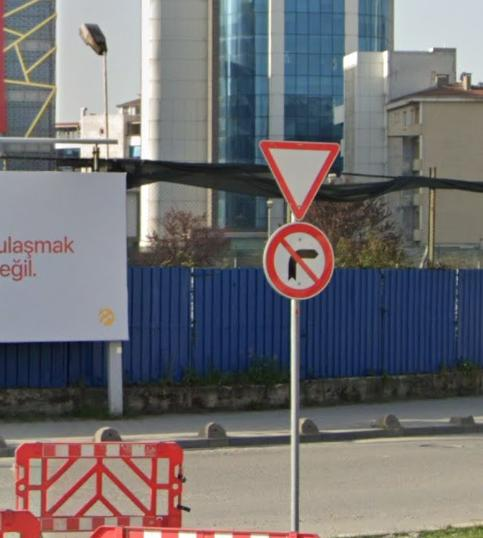rightturnsareforbidden: (265, 223, 334, 296)
